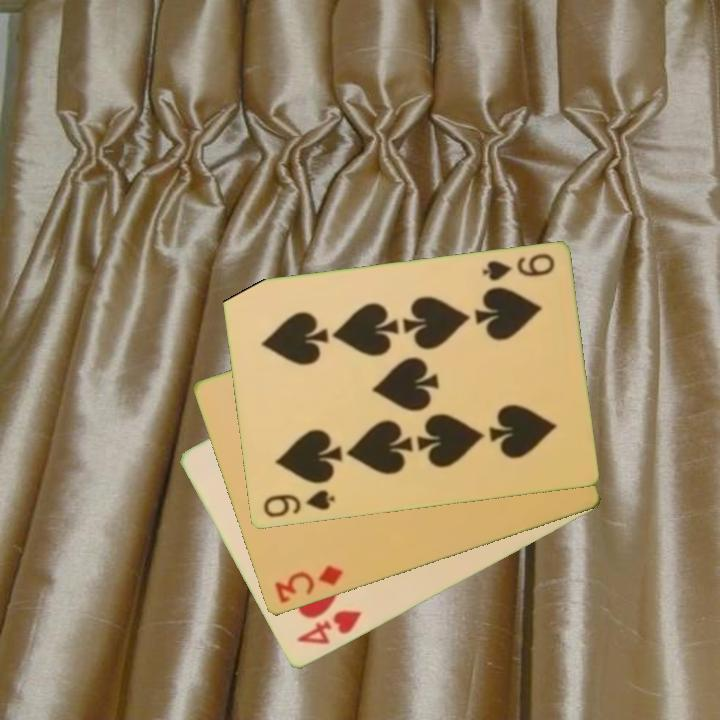3d: (271, 562, 346, 607)
4h: (293, 607, 365, 648)
9s: (478, 250, 557, 285), (259, 486, 337, 521)
